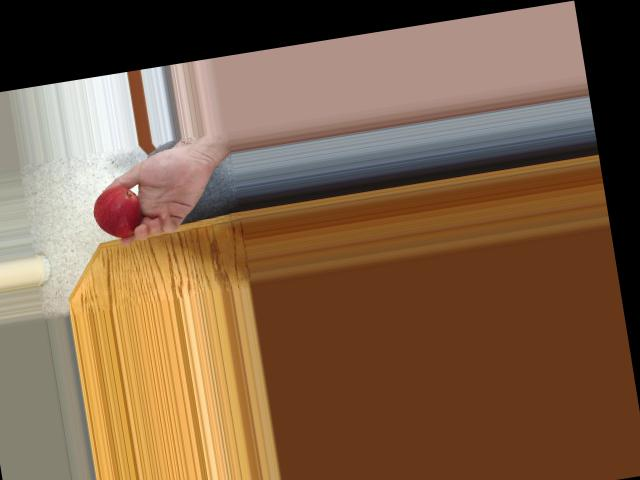apple: (88, 183, 145, 240)
